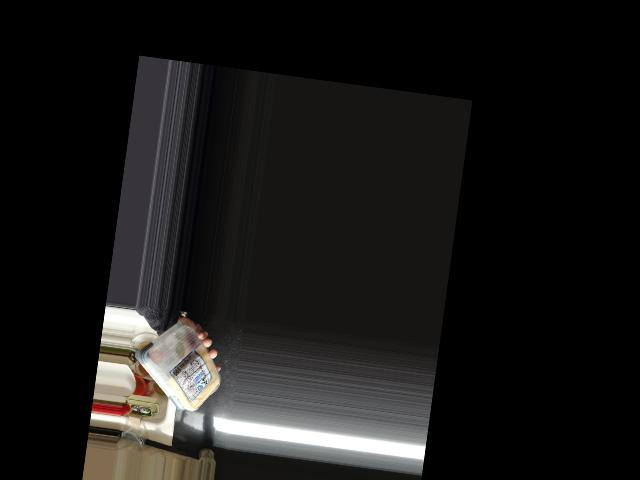cheese: (141, 319, 222, 415)
